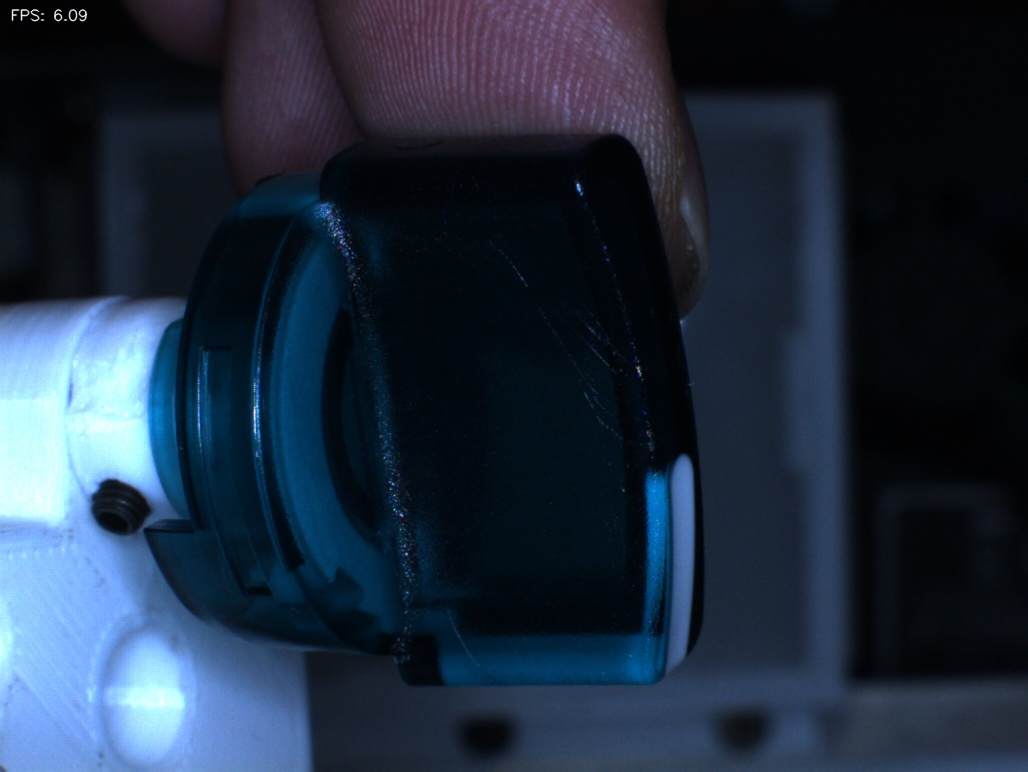Givrage: (495, 244, 626, 451), (433, 593, 497, 674)
